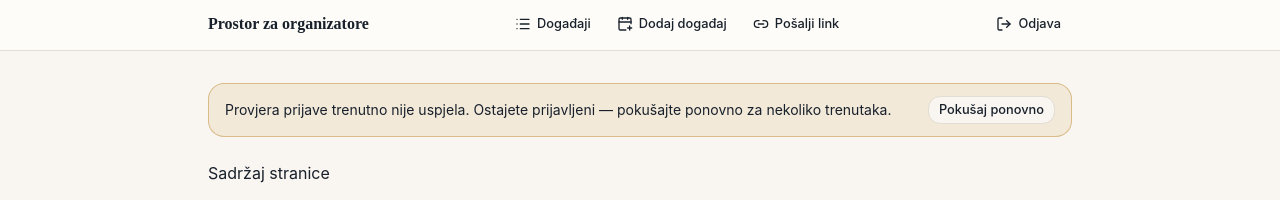
Test: organizer session handling (AUTH-01) › retry after a transient failure restores the session without re-login
Click the button "Pokušaj ponovno" at (991, 110), box [928, 96, 1055, 124]
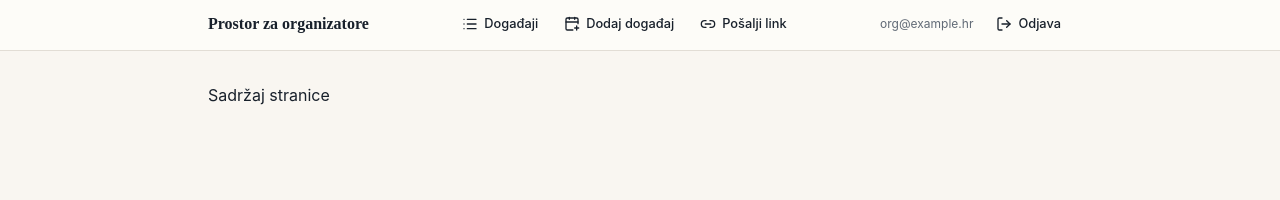
expect the text "Provjera prijave trenutno nije uspjela" is gone: met
